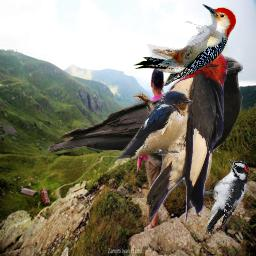Crow: (47, 56, 243, 198)
Swallow: (114, 90, 194, 161)
Woodpecker: (133, 44, 228, 225), (133, 4, 236, 87), (204, 159, 248, 237)
